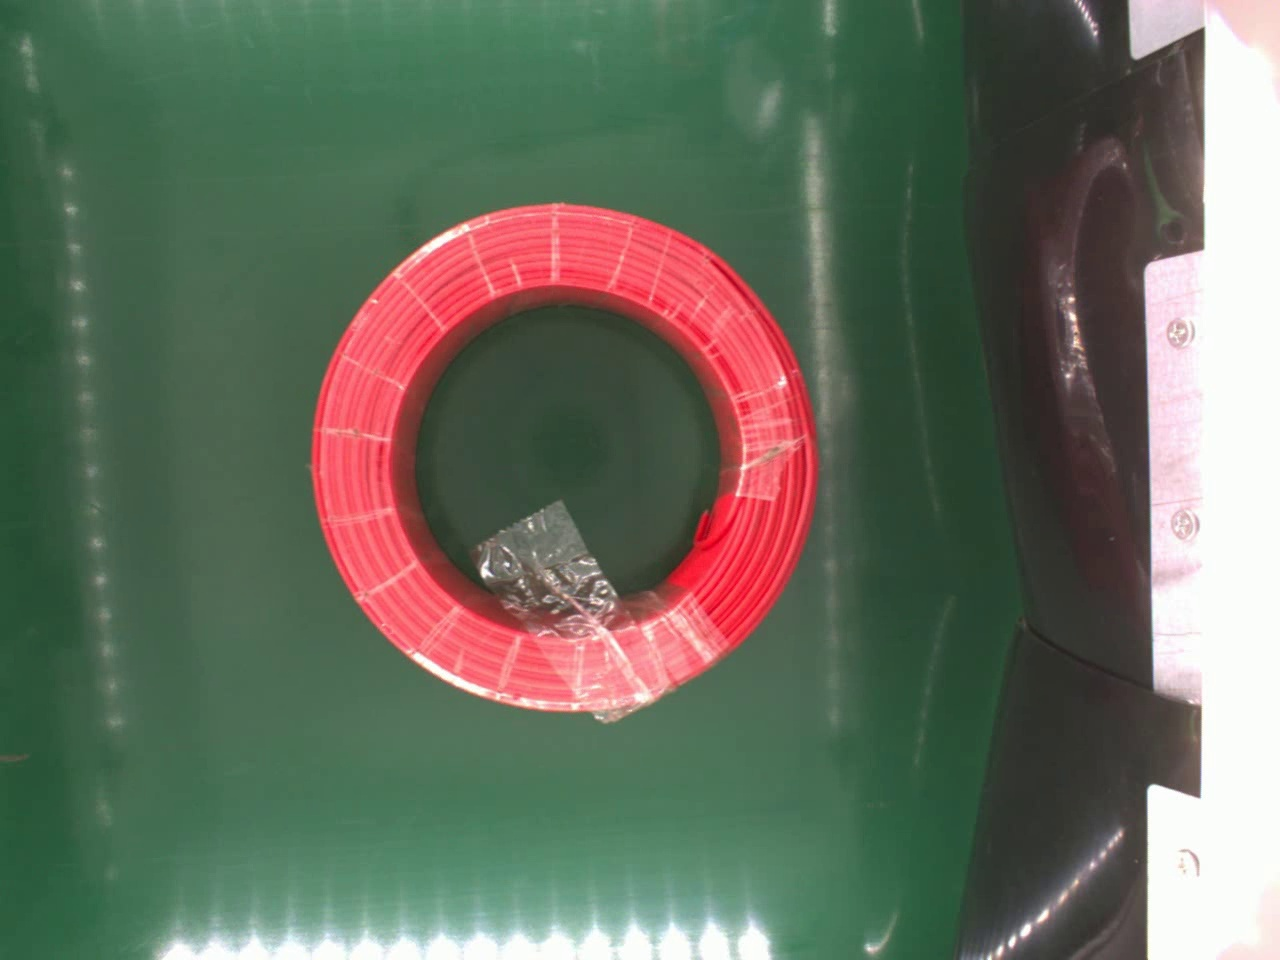red: (309, 202, 817, 720)
